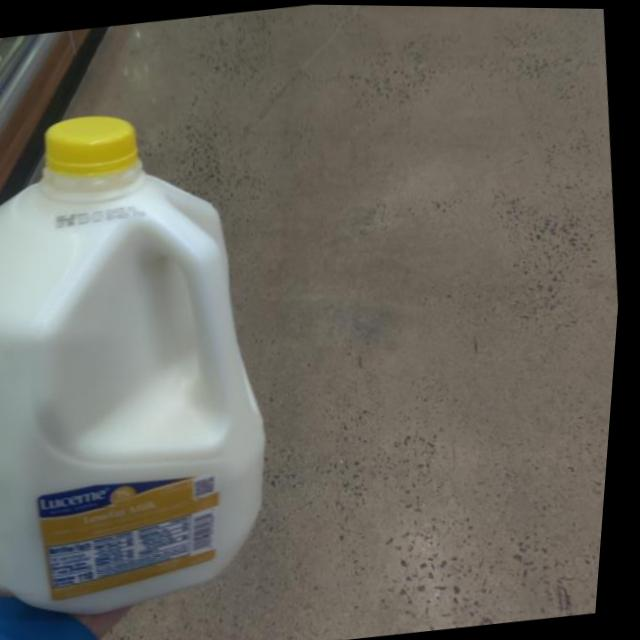Milk: (0, 98, 308, 617)
